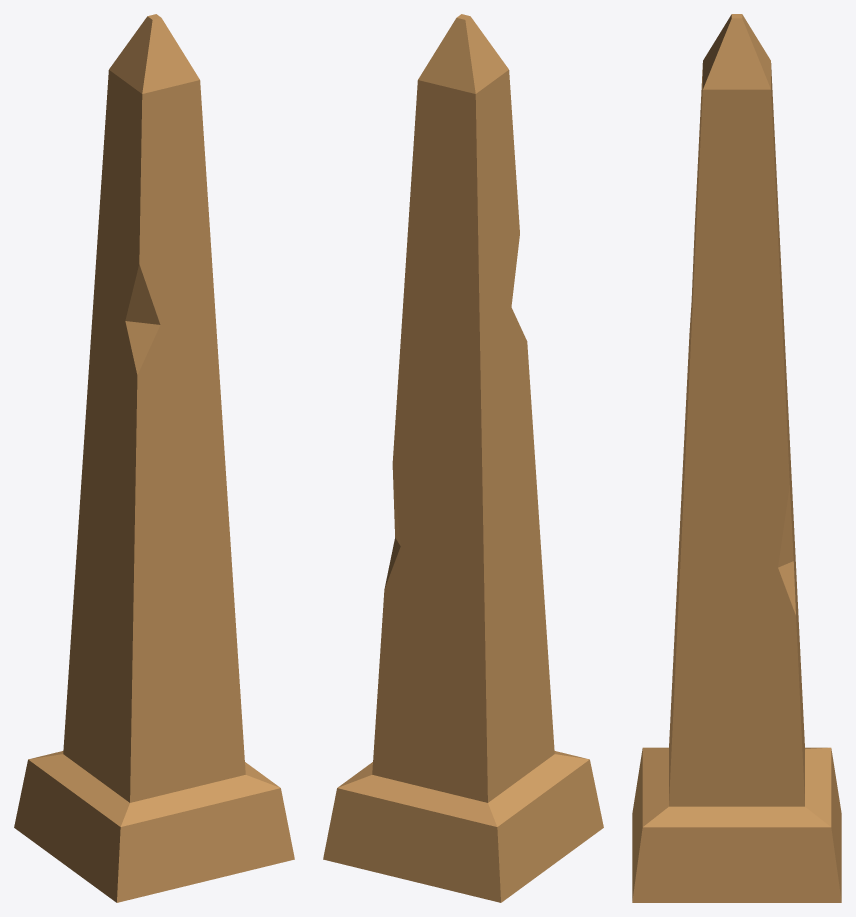
Rendered from egypt-egypt-obelisk-old.glb.
3 renders of one model, left to right at view 1: azimuth 30°, elevation 25°; view 2: azimuth 150°, elevation 25°; view 3: azimuth 270°, elevation 25°, orthographic.
Visible parts, largest first — view 1: obelisk-old; view 2: obelisk-old; view 3: obelisk-old.
Part boxes in pixels (left/top/right/bottom): obelisk-old: left=14, top=14, right=294, bottom=902; obelisk-old: left=323, top=14, right=603, bottom=902; obelisk-old: left=632, top=14, right=841, bottom=902.
Bounding box in the file's own units: 4 × 17.74 × 4.
